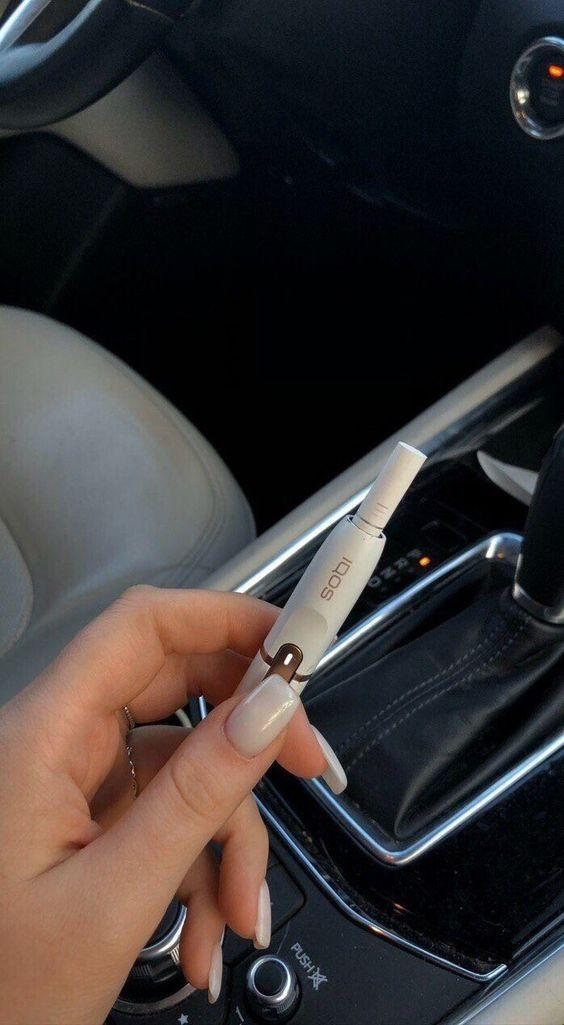iqos: (234, 442, 425, 697)
